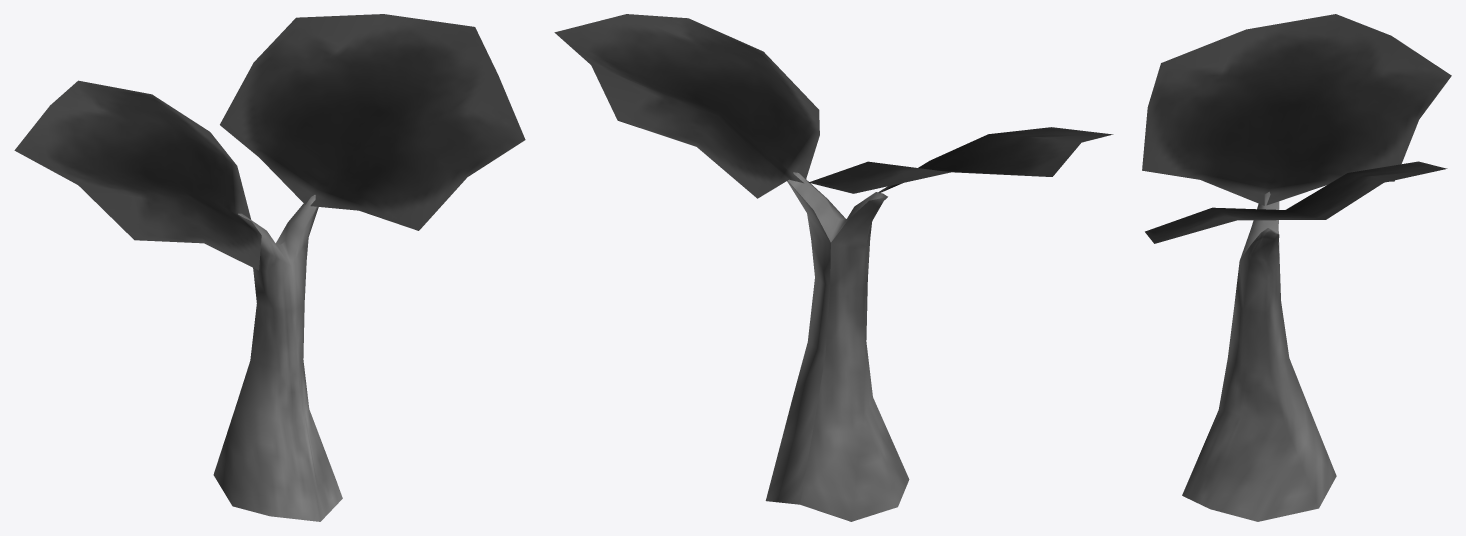
The model's file is PltTreeOak0.glb.
3 views of the same model, side by side, from view 1: azimuth 30°, elevation 25°; view 2: azimuth 150°, elevation 25°; view 3: azimuth 270°, elevation 25° (orthographic). The views are drawn at different scales.
Visible parts, largest first — view 1: L01_Rich1__mTreeOakLeaf, fg_treeA_0__mPltTreeOakTrunk; view 2: L01_Rich1__mTreeOakLeaf, fg_treeA_0__mPltTreeOakTrunk; view 3: L01_Rich1__mTreeOakLeaf, fg_treeA_0__mPltTreeOakTrunk.
Boxes of the visible parts, left/top/right/bottom form: L01_Rich1__mTreeOakLeaf: left=14, top=14, right=525, bottom=270; fg_treeA_0__mPltTreeOakTrunk: left=213, top=195, right=342, bottom=521; L01_Rich1__mTreeOakLeaf: left=554, top=14, right=1113, bottom=198; fg_treeA_0__mPltTreeOakTrunk: left=765, top=172, right=909, bottom=521; L01_Rich1__mTreeOakLeaf: left=1142, top=14, right=1451, bottom=243; fg_treeA_0__mPltTreeOakTrunk: left=1182, top=191, right=1336, bottom=521.
Size of the model in its own units: 6.43 by 5.31 by 3.79.
Materials: 2 (2 with a texture image).
